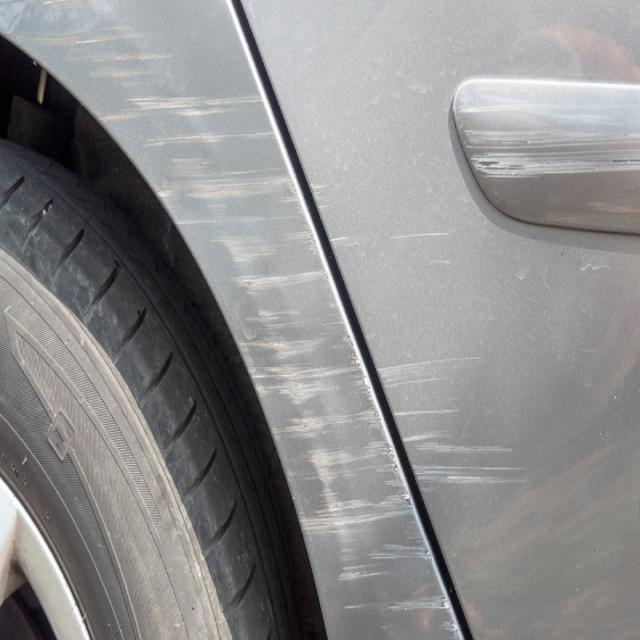scratch: (0, 0, 463, 640), (375, 350, 533, 489), (458, 96, 640, 182)
